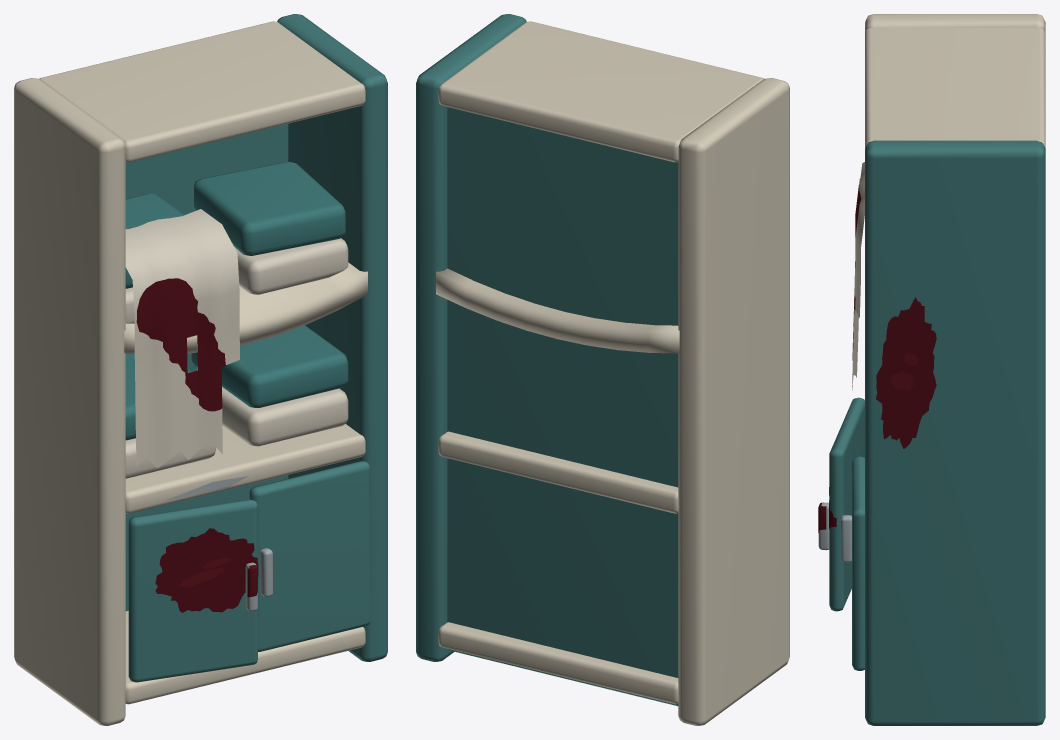
The model's file is linen_cabinet.glb.
3 renders of one model, left to right at view 1: azimuth 30°, elevation 25°; view 2: azimuth 150°, elevation 25°; view 3: azimuth 270°, elevation 25°, orthographic.
Parts seen in each view (by area): view 1: OB_LinenCabinet_01_Static; view 2: OB_LinenCabinet_01_Static; view 3: OB_LinenCabinet_01_Static.
Boxes of the visible parts, bbox=[...] form: OB_LinenCabinet_01_Static: bbox=[14, 14, 387, 725]; OB_LinenCabinet_01_Static: bbox=[416, 14, 789, 725]; OB_LinenCabinet_01_Static: bbox=[818, 14, 1045, 725].
Size of the model in its own units: 0.9548 by 1.84 by 0.6542.
